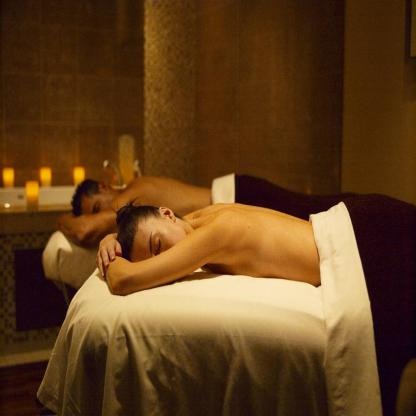face: (132, 221, 192, 286), (77, 194, 124, 233)
